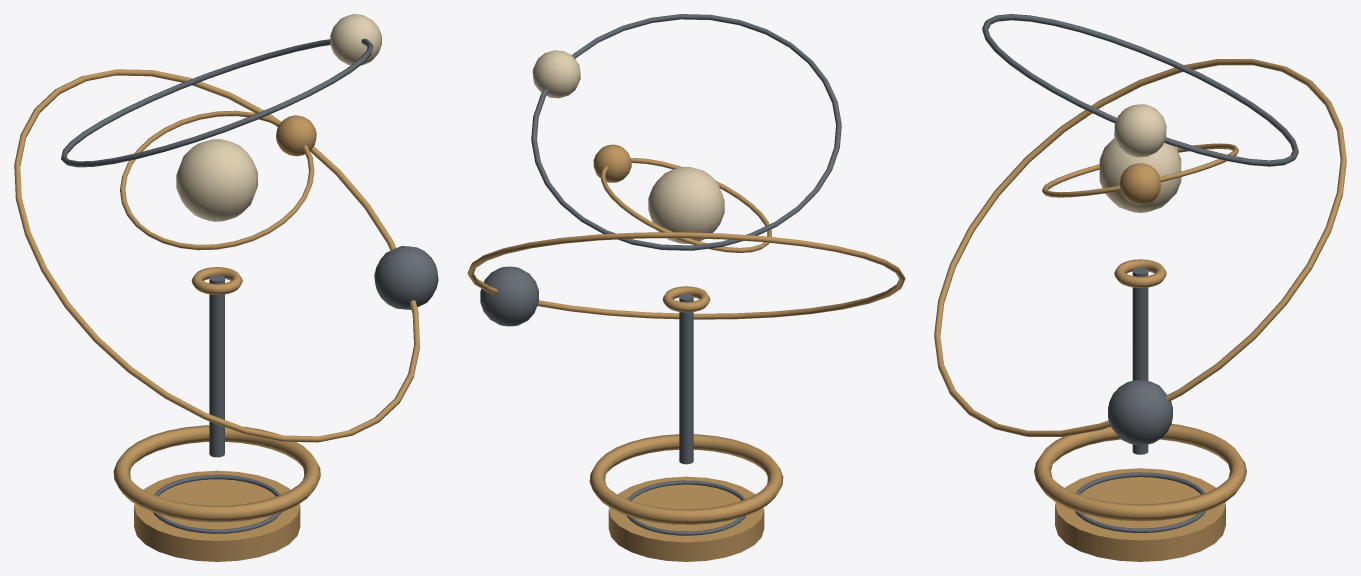
Rendered from orrery-lite-v1.glb.
The picture shows the model from 3 angles, left to right: view 1: azimuth 30°, elevation 25°; view 2: azimuth 150°, elevation 25°; view 3: azimuth 270°, elevation 25°; orthographic projection. The views are drawn at different scales.
Visible parts, largest first — view 1: base_pedestal, orbit_outer_track, foot_ring, central_sun, orbit_middle_track, body_outer, orbit_inner_track, support_column, body_middle, base_inset, body_inner, top_collar; view 2: base_pedestal, foot_ring, orbit_outer_track, orbit_middle_track, central_sun, body_outer, support_column, body_middle, orbit_inner_track, base_inset, body_inner, top_collar; view 3: base_pedestal, orbit_outer_track, foot_ring, orbit_middle_track, body_outer, central_sun, body_middle, support_column, orbit_inner_track, base_inset, body_inner, top_collar.
Part boxes in pixels (box(x1,y1,x2,y2)): base_pedestal: box(134, 470, 300, 561); orbit_outer_track: box(14, 69, 419, 442); foot_ring: box(113, 425, 320, 522); central_sun: box(176, 139, 257, 221); orbit_middle_track: box(61, 38, 373, 167); body_outer: box(374, 246, 438, 309); orbit_inner_track: box(120, 110, 314, 250); support_column: box(209, 275, 224, 457); body_middle: box(330, 14, 381, 65); base_inset: box(153, 474, 281, 533); body_inner: box(276, 115, 316, 156); top_collar: box(191, 267, 242, 294); base_pedestal: box(608, 476, 764, 561); foot_ring: box(589, 434, 783, 524); orbit_outer_track: box(467, 232, 905, 319); orbit_middle_track: box(531, 14, 841, 250); central_sun: box(648, 167, 724, 243); body_outer: box(480, 266, 538, 326); support_column: box(679, 293, 693, 464); body_middle: box(532, 50, 580, 98); orbit_inner_track: box(601, 158, 771, 252); base_inset: box(626, 480, 745, 535); body_inner: box(593, 144, 631, 182); top_collar: box(662, 286, 710, 312); base_pedestal: box(1055, 468, 1225, 561); orbit_outer_track: box(934, 59, 1346, 436); foot_ring: box(1034, 423, 1246, 521); orbit_middle_track: box(982, 14, 1298, 166); body_outer: box(1108, 380, 1172, 445); central_sun: box(1099, 137, 1181, 212); body_middle: box(1114, 104, 1166, 157); support_column: box(1132, 267, 1148, 454); orbit_inner_track: box(1042, 143, 1238, 197); base_inset: box(1075, 472, 1205, 532); body_inner: box(1120, 163, 1160, 205); top_collar: box(1114, 259, 1166, 287).
Size of the model in its own units: 1.54 by 1.75 by 1.3.
